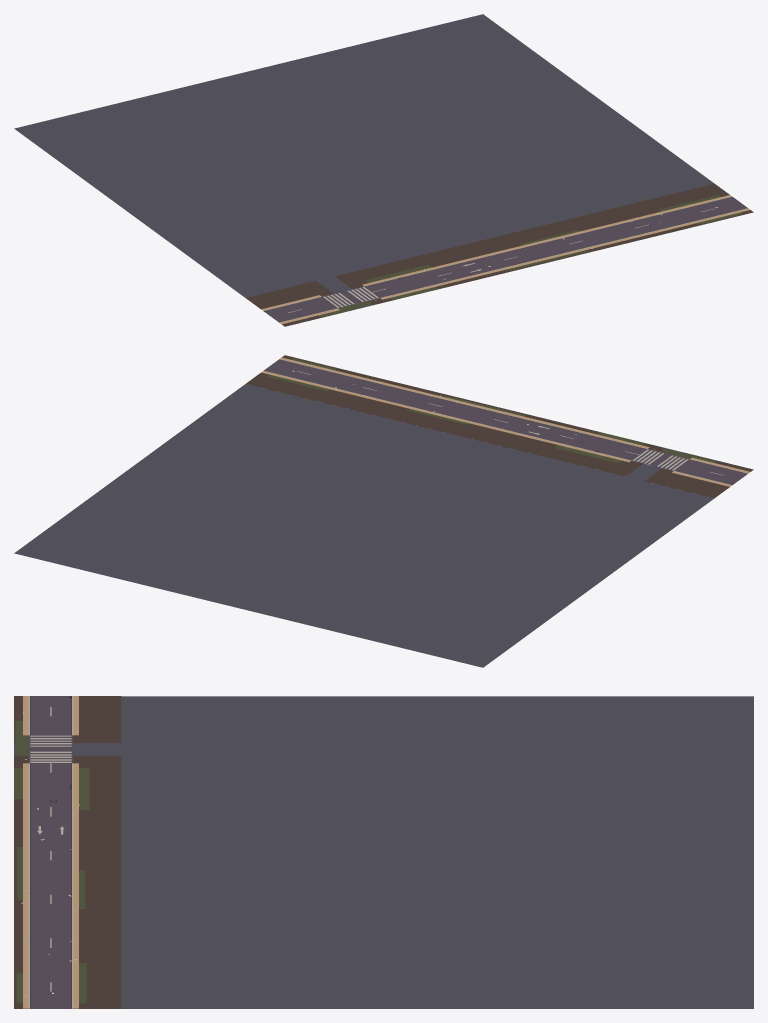
The model's file is cure-28-2.glb.
The picture shows the model from 3 angles, top to bottom: view 1: azimuth 30°, elevation 25°; view 2: azimuth 150°, elevation 25°; view 3: azimuth 270°, elevation 25°; orthographic projection. The views are drawn at different scales.
Parts seen in each view (by area): view 1: cure-28-2; view 2: cure-28-2; view 3: cure-28-2.
Boxes of the visible parts, <box> form: cure-28-2: <box>14,14,753,326</box>; cure-28-2: <box>14,355,753,667</box>; cure-28-2: <box>14,696,753,1008</box>.
Size of the model in its own units: 100 by 0.016 by 100.
